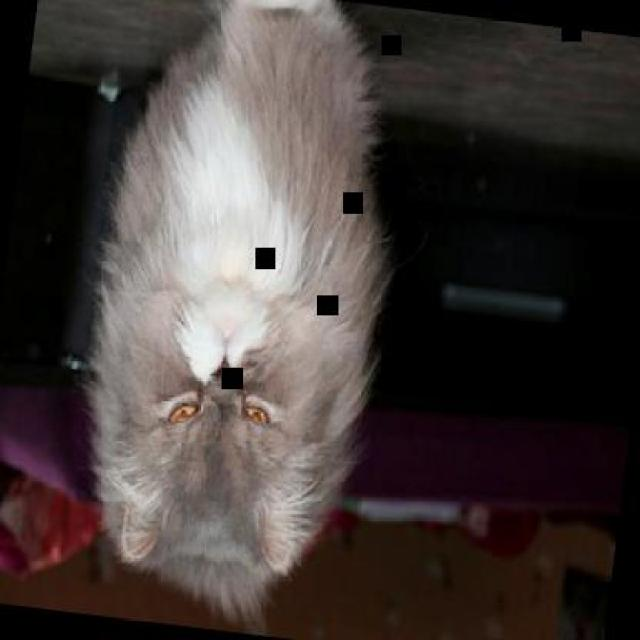cat: (64, 0, 413, 629)
